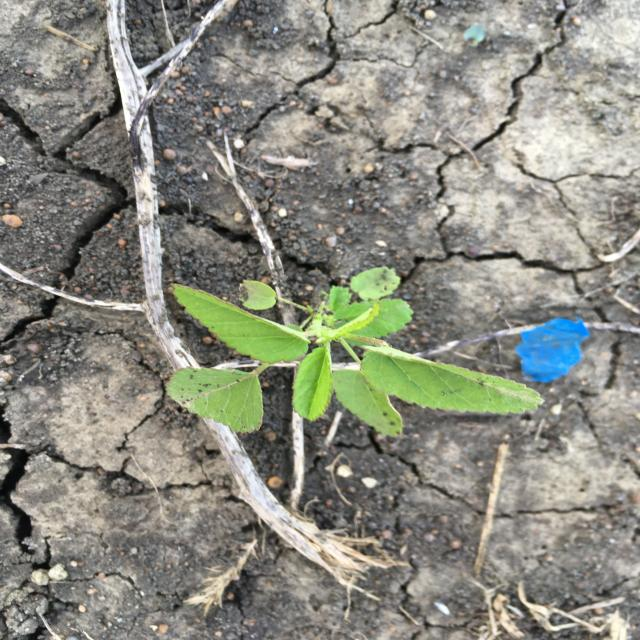PricklySida: (160, 264, 549, 442)
